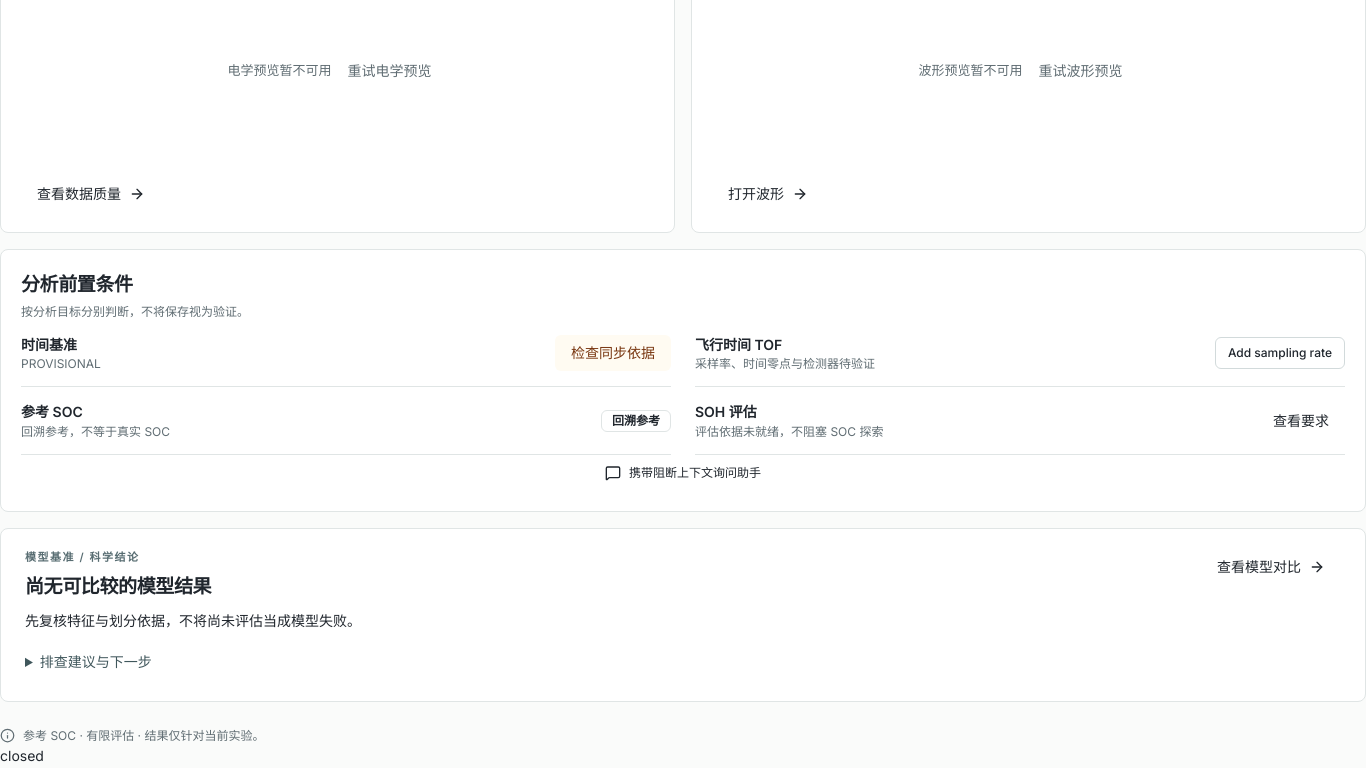
概览交互闭环 › 调优入口明确能力限制，不假装启动训练
This screenshot has width=1366, height=768.
(page scrolled)
Click the heading "排查建议与下一步". click: (96, 661)
box: [40,653,152,670]
(page scrolled)
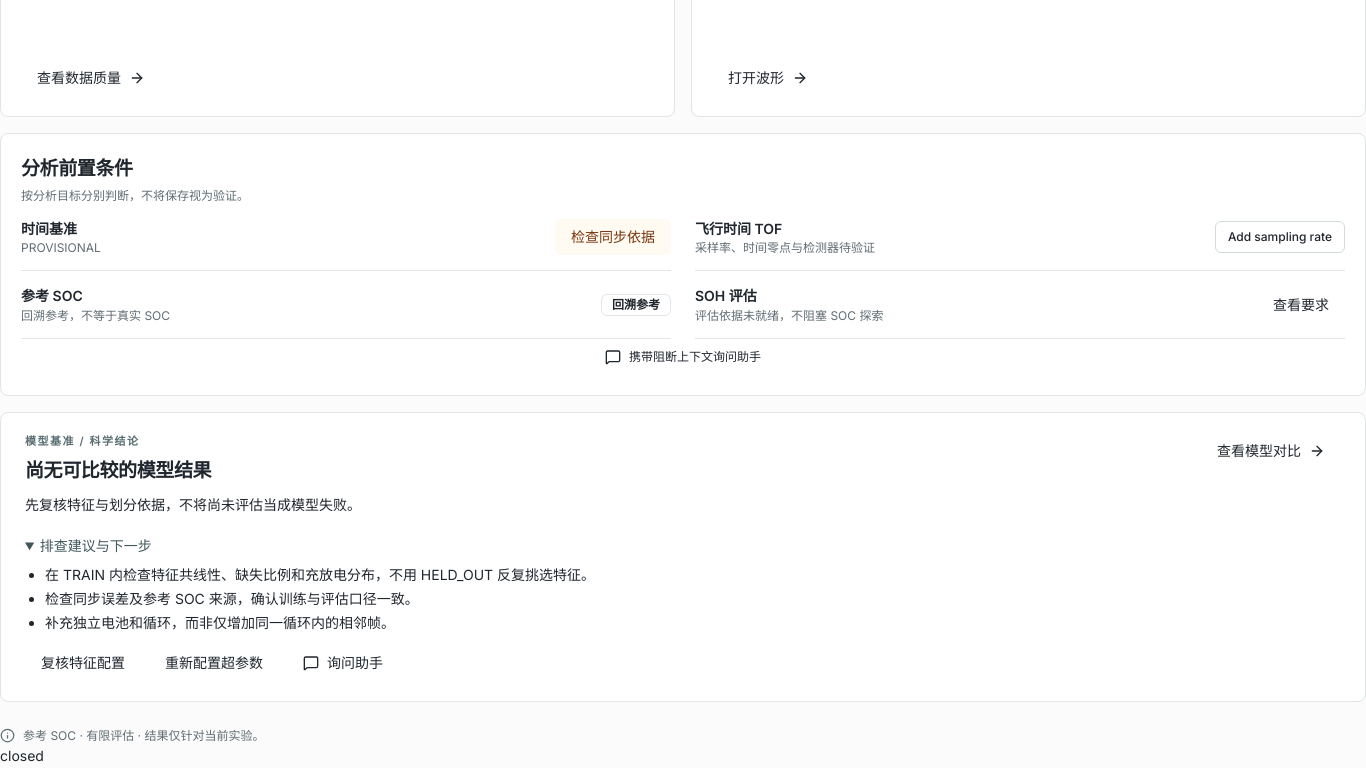
Click the button "重新配置超参数". click: (214, 663)
box: [149,645,279,681]
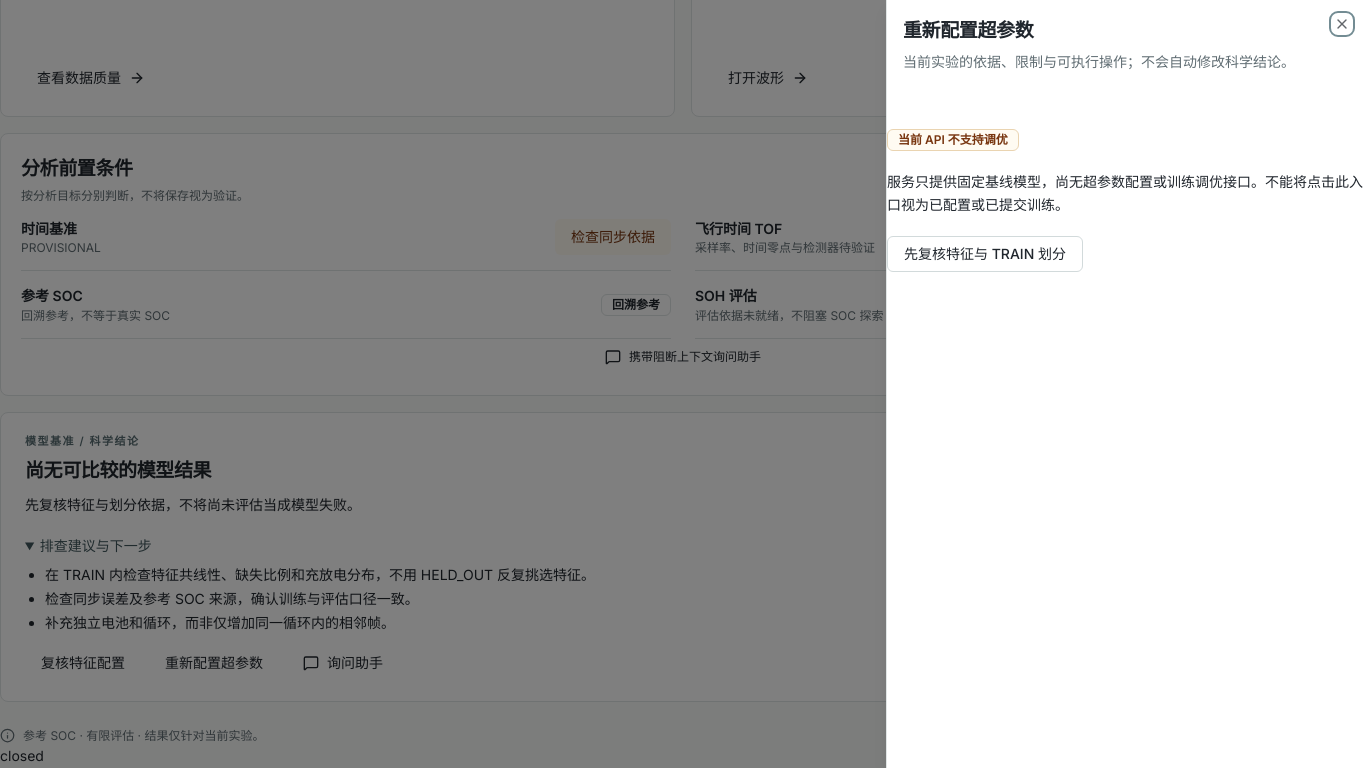
Now the text "当前 API 不支持调优" is shown, box [887,129,1019,151]
